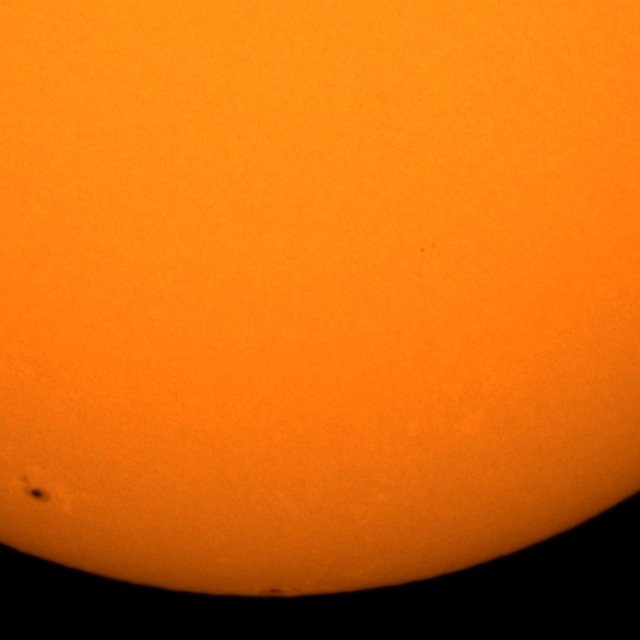sunspot: (18, 474, 52, 504), (418, 246, 426, 254)
